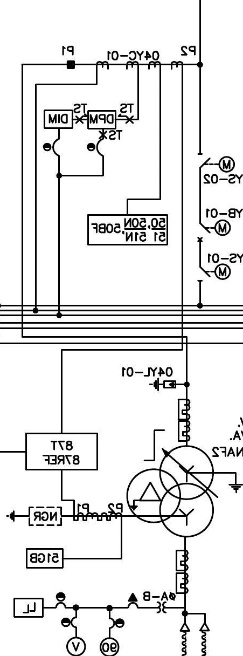11522_tx_ynyn0d1: (126, 445, 215, 538)
115_1way_ds_w_motor: (197, 153, 235, 173), (197, 263, 232, 282)
115_breaker: (197, 223, 211, 243)
115_la: (149, 377, 177, 392)
DIM: (44, 109, 74, 129)
DPM: (87, 110, 117, 130)
LL: (13, 597, 44, 618)
NGR_future: (6, 506, 62, 526)
terminator_double: (179, 612, 210, 632)
